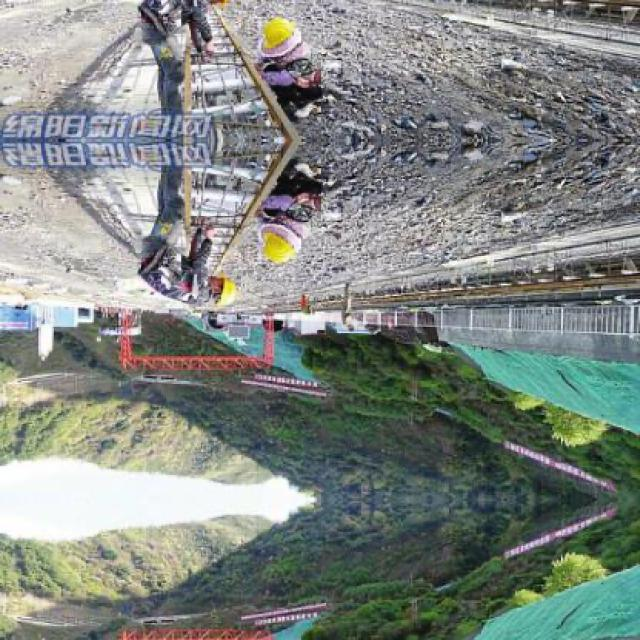con casco: (254, 199, 321, 294), (193, 267, 239, 317)
